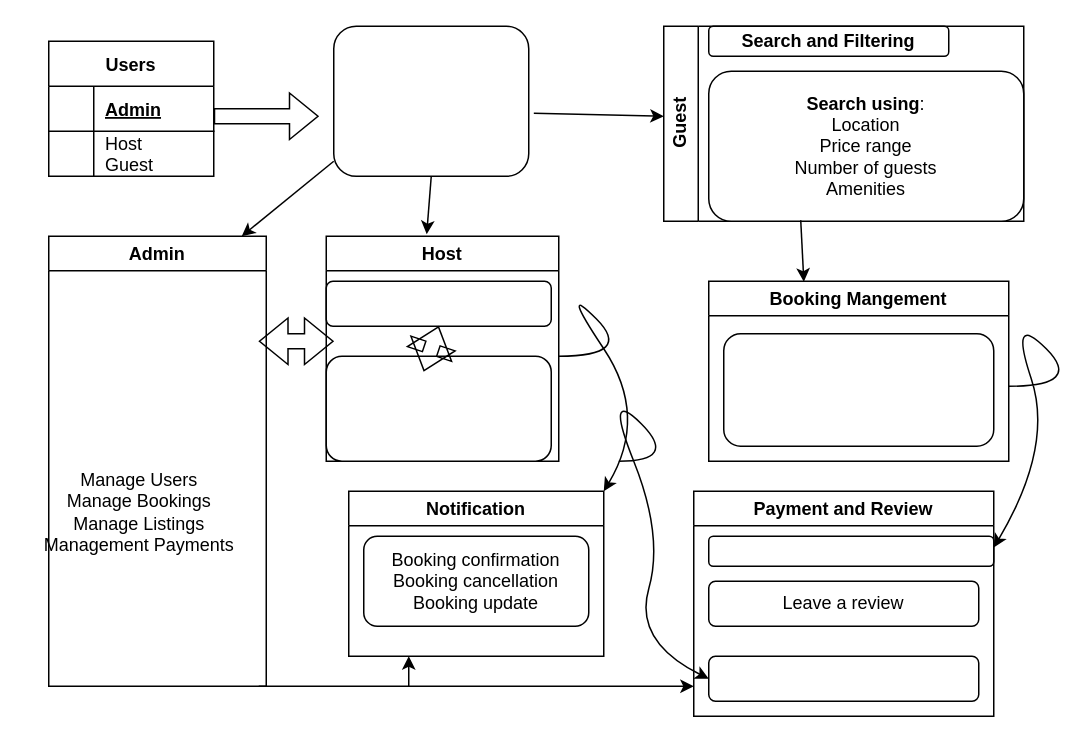
Some shapes in this 1085 by 743 pixel diagram are drawn without their labels. The shapes that lost their labels are listed below. From the top down, each one's centre as x and y in pixels, then its label:
the point at 430,100: Registration Login Profile management
the point at 438,303: Property Listing
the point at 438,408: Add Listing Edit/Delete Lisiting
the point at 858,389: Booking creation Booking cancellation Booking status
the point at 850,550: Make payment
the point at 843,678: Respond to reviews
